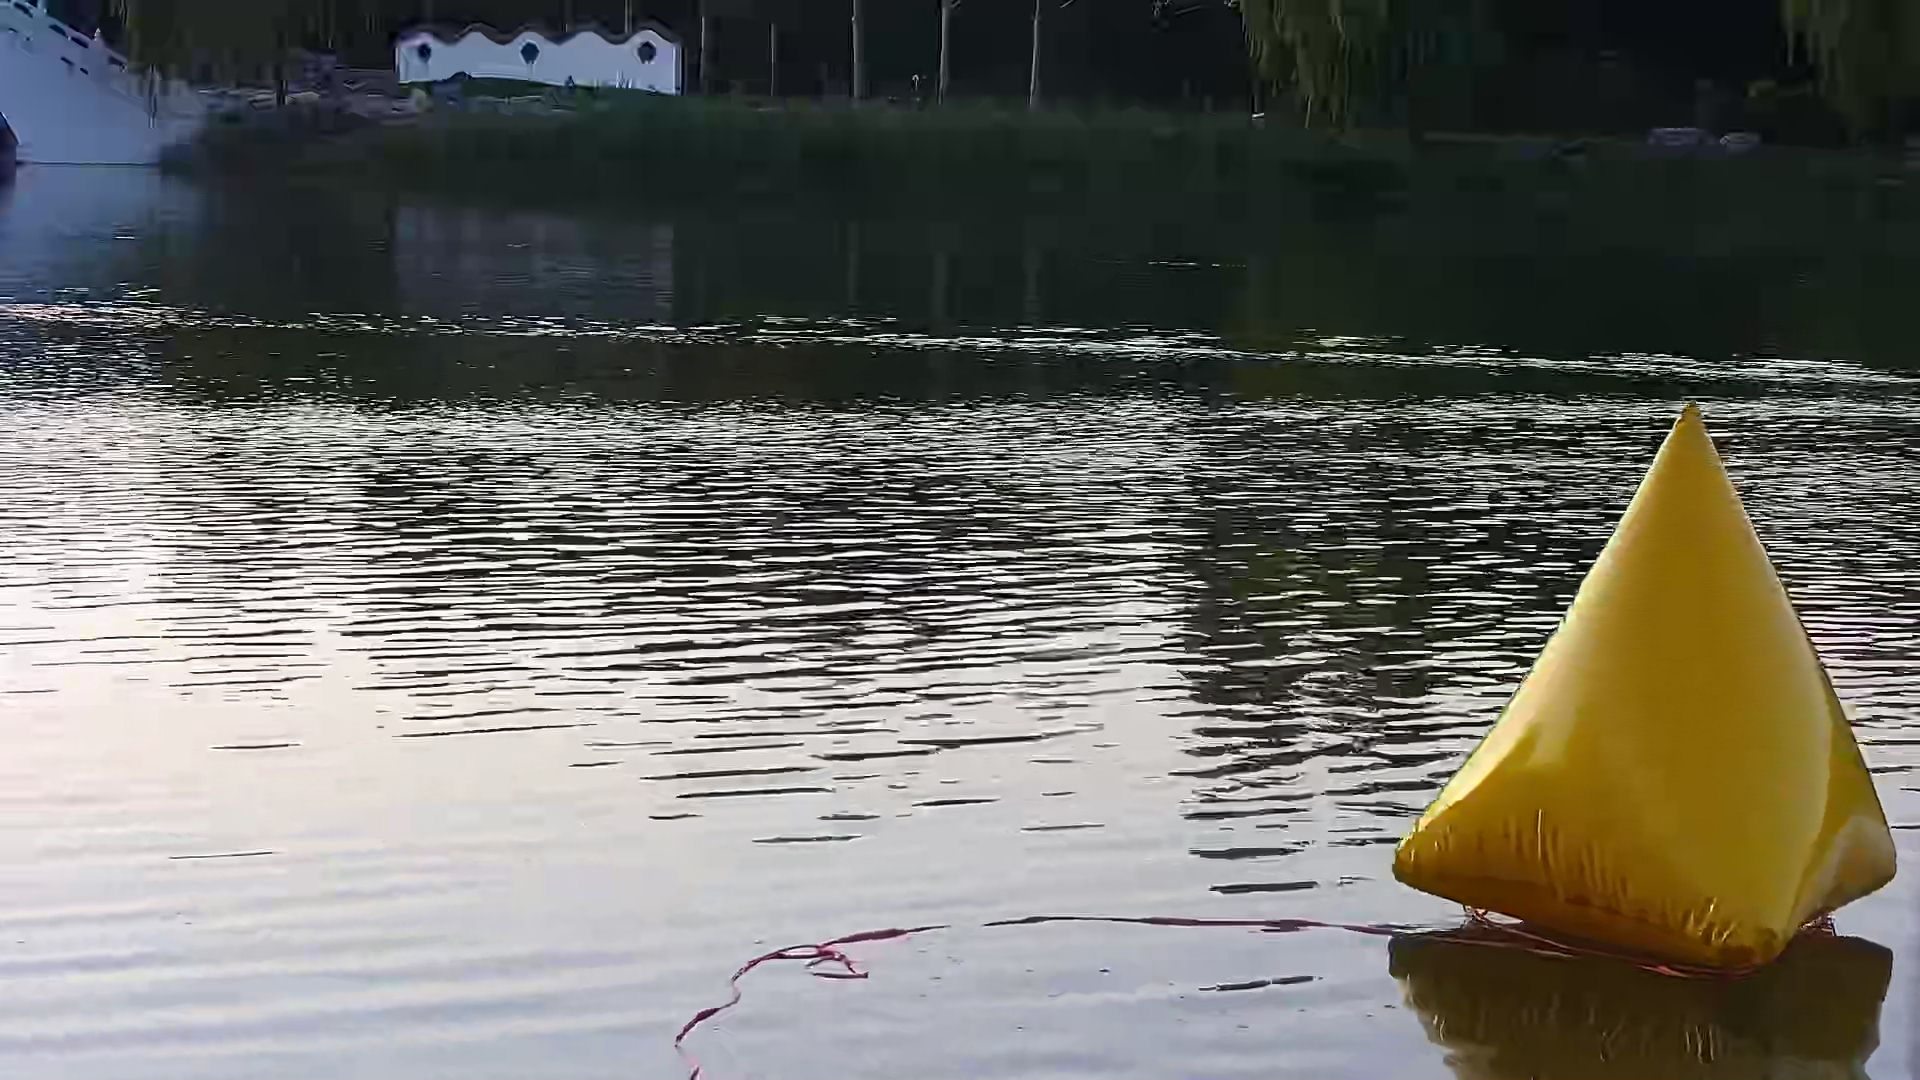rubbish: (1390, 389, 1898, 982)
